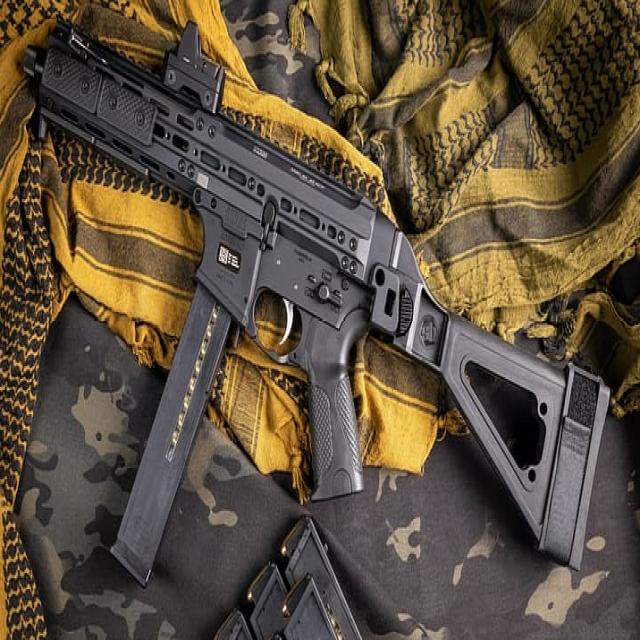Weapon: (23, 21, 609, 584)
